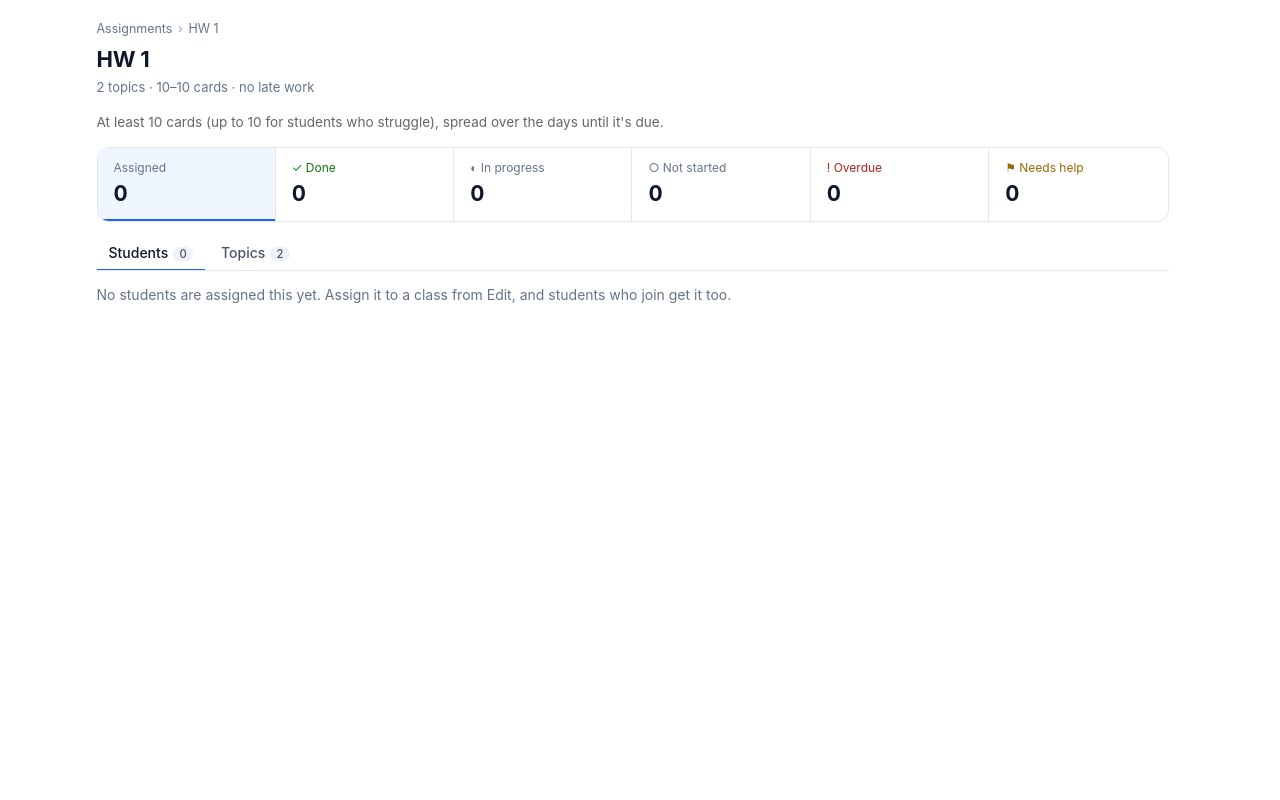
Scenario: AssignmentDetail › shows familiarity per topic and the topics students struggled with most
Click the tab "Topics2" at point(255, 253), box 209,236 -> 302,271
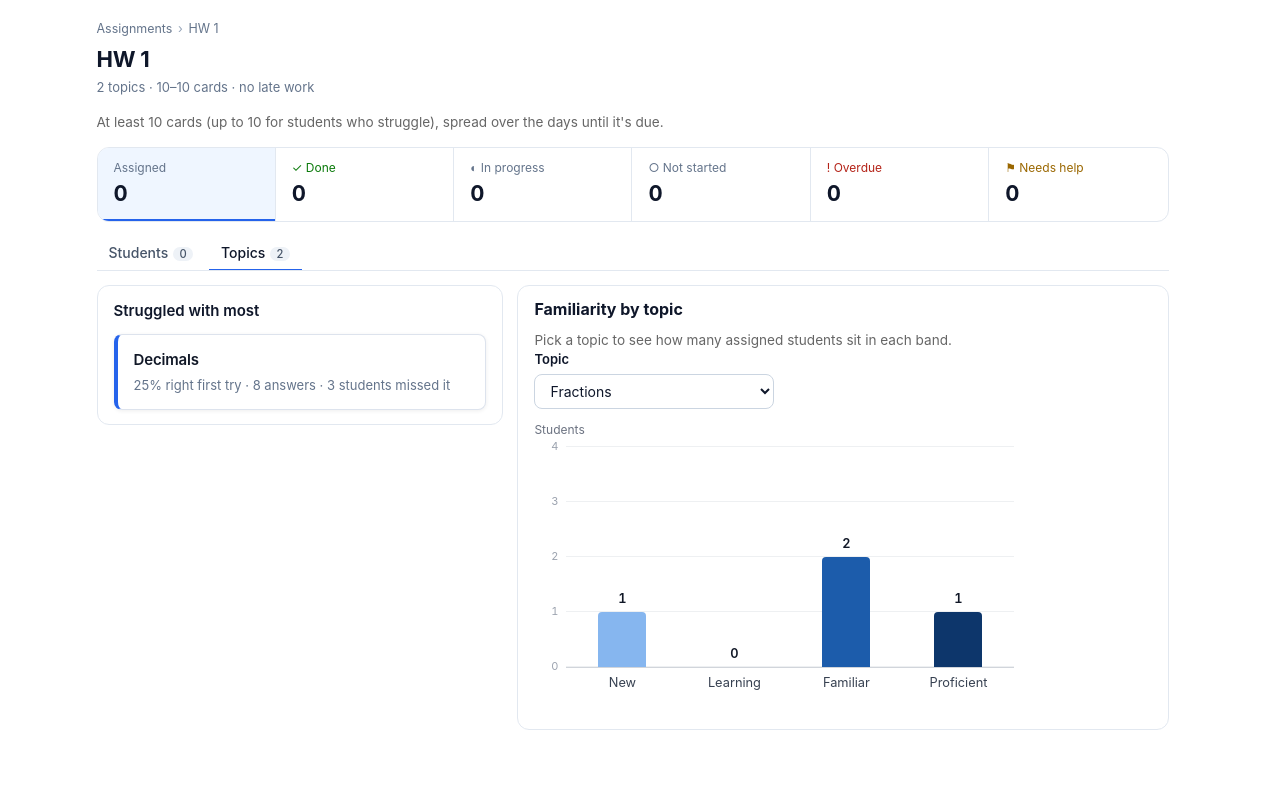
Now the text "Decimals" is shown, box 134,348 -> 199,370
Now the text "25% right first try · 8 answers · 3 students missed it" is shown, box 134,376 -> 469,395
Now the picture named "Fractions, Familiar: 2 students" is shown, box 822,557 -> 870,667
Hovering a bar shows its share of the topic's students.
Hover over the element named "Fractions, Familiar: 2 students" at point(846, 601), box 822,536 -> 870,667
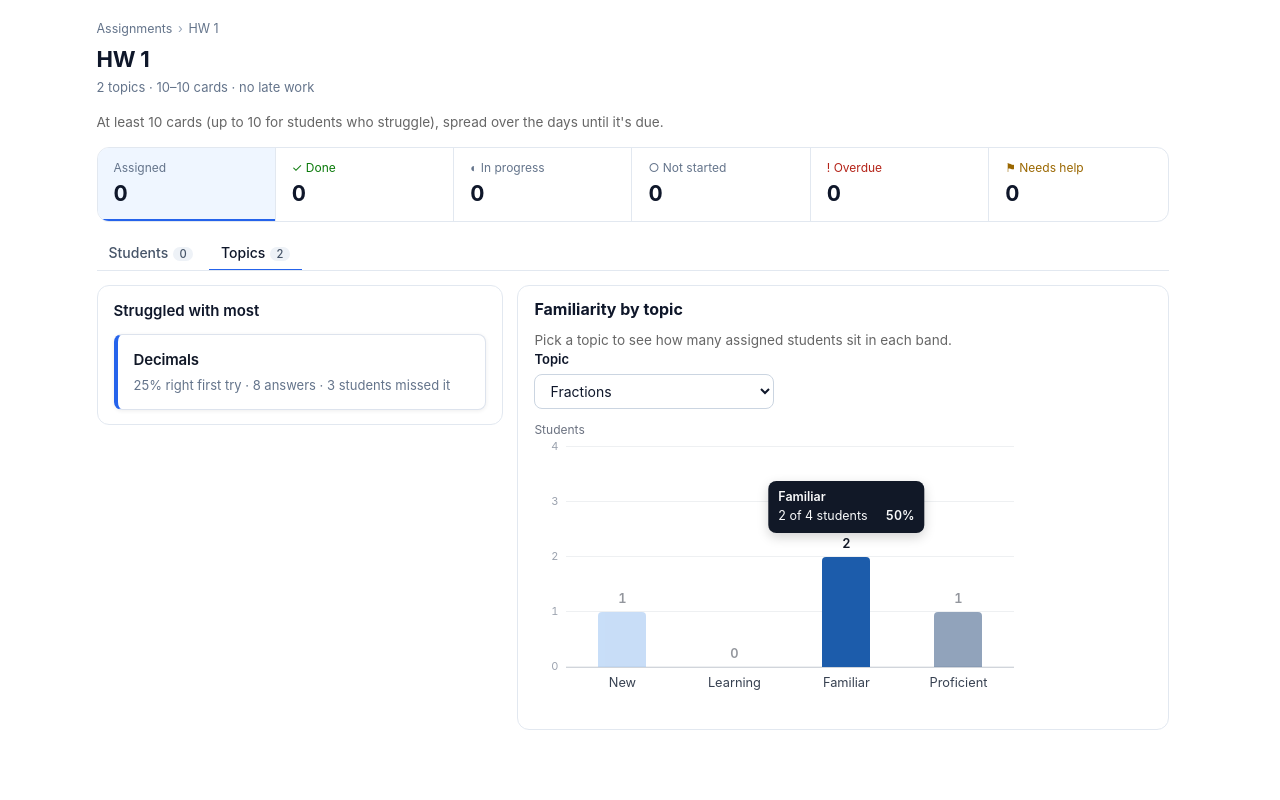
Now the text "2 of 4 students" is shown, box 778,507 -> 868,526
Now the text "50%" is shown, box 886,508 -> 915,523
Select "Decimals" in the dropdown labelled "Topic" at point(654, 392), box 534,374 -> 774,409
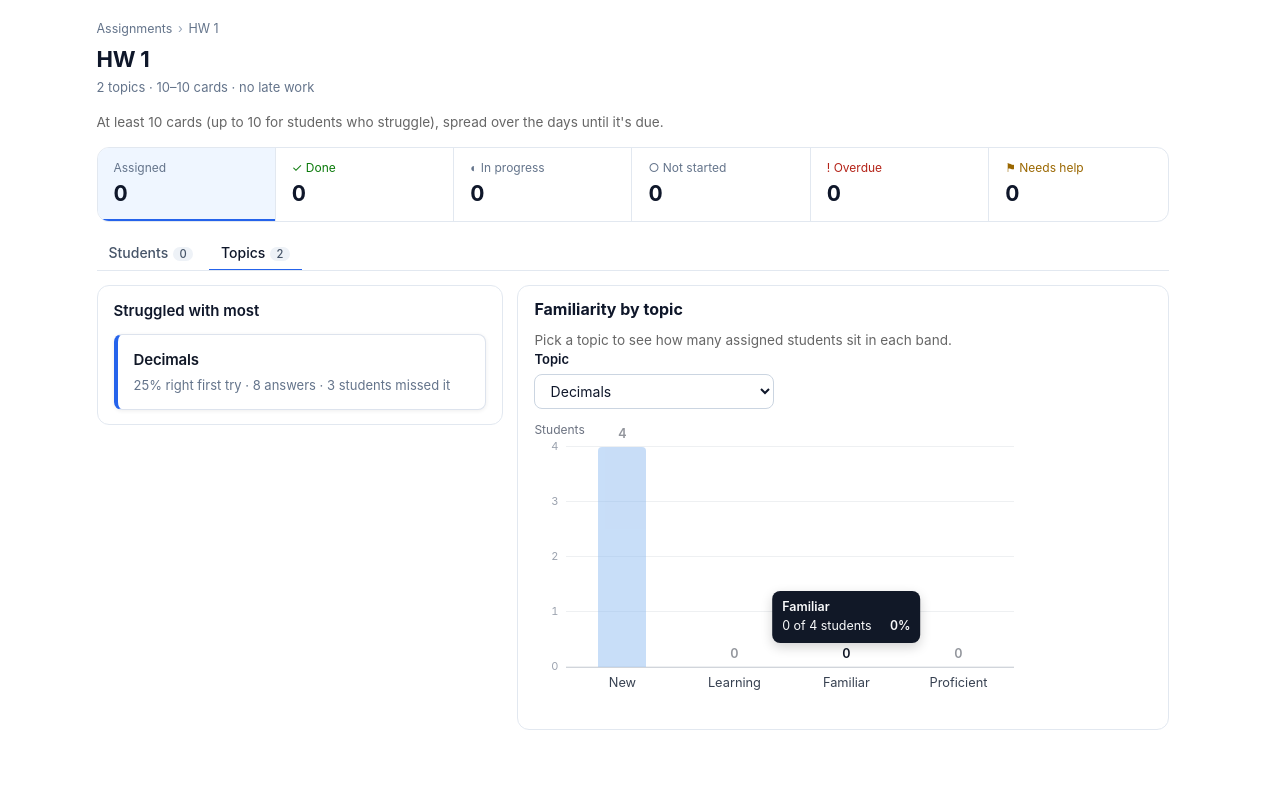
Now the picture named "Decimals, New: 4 students" is shown, box 598,447 -> 646,667
